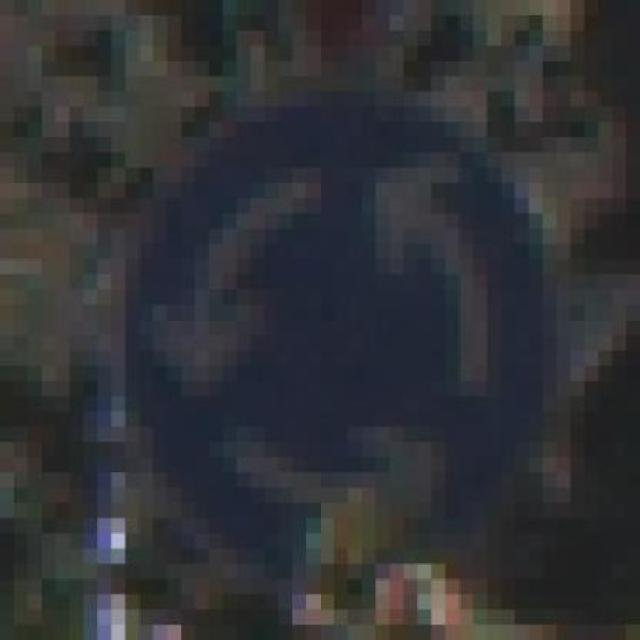Round-About: (111, 76, 571, 610)
